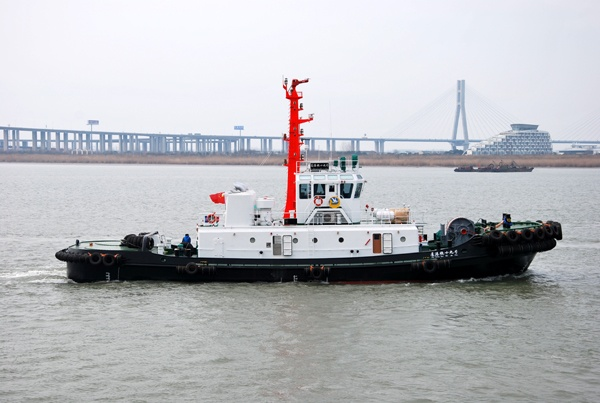otherboat: (52, 78, 565, 290)
